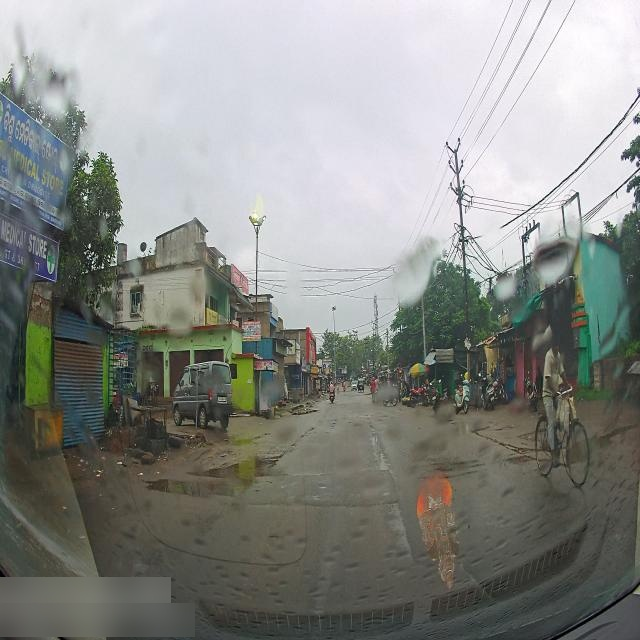pothole: (151, 472, 219, 502), (216, 456, 273, 481)
